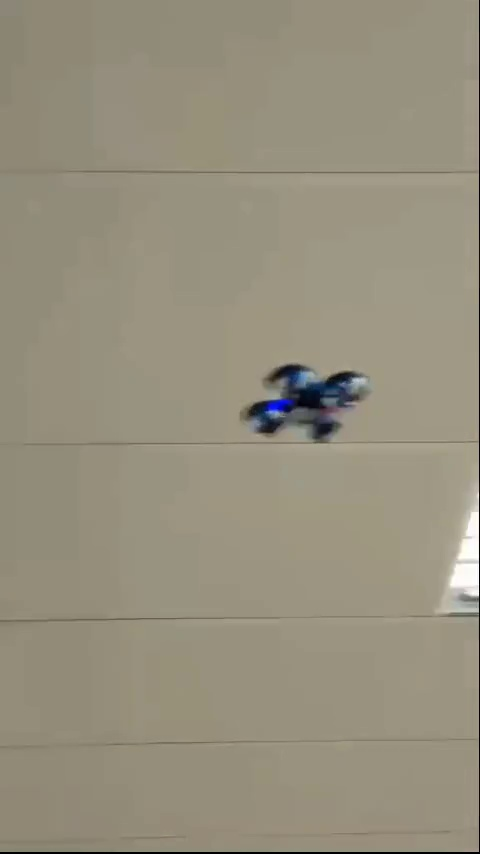drone: (246, 363, 367, 446)
